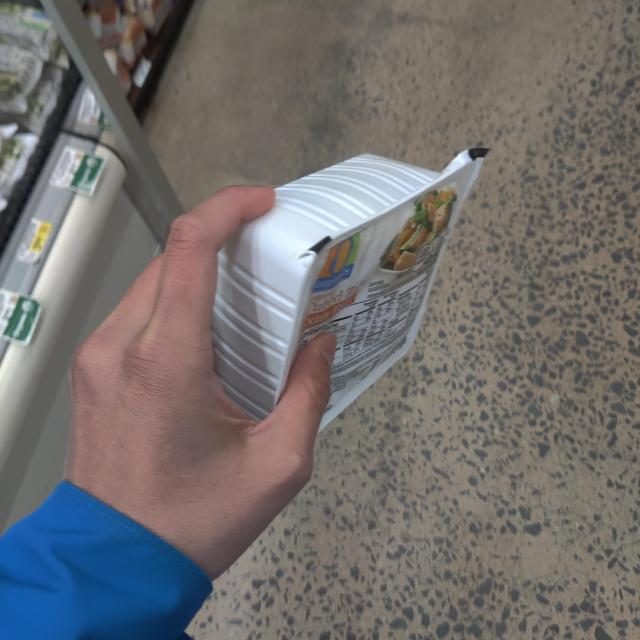Tofu: (207, 156, 498, 448)
